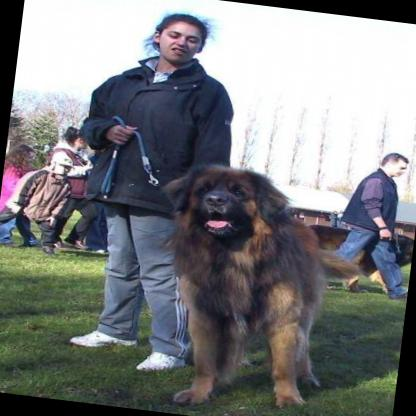Leonberg: (132, 158, 343, 416)
